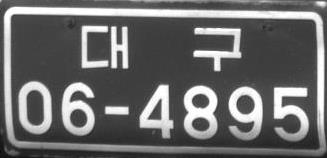0: (17, 79, 52, 135)
4: (138, 84, 173, 139)
5: (272, 85, 309, 142)
6: (60, 81, 95, 137)
8: (182, 85, 218, 139)
9: (227, 85, 263, 141)
대구_D: (80, 25, 241, 72)
